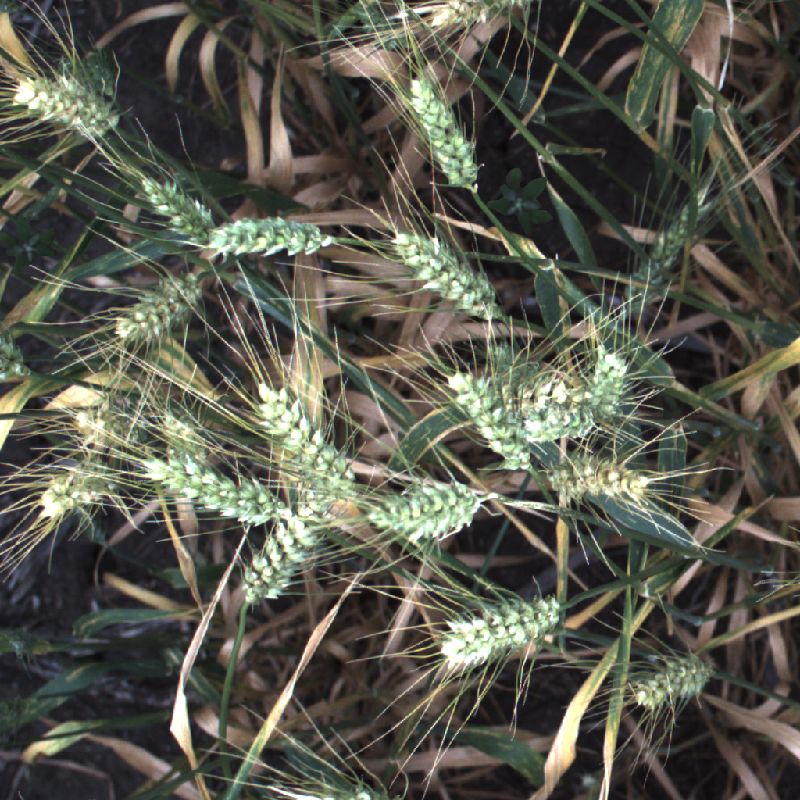spikelet: (239, 367, 369, 501), (129, 442, 292, 535), (614, 171, 717, 316), (103, 259, 223, 364), (385, 225, 507, 324), (435, 364, 538, 476), (234, 487, 329, 606), (432, 589, 560, 673), (402, 75, 482, 194), (129, 160, 225, 251), (28, 456, 135, 527), (365, 475, 485, 536), (509, 374, 621, 439), (10, 71, 117, 137), (531, 453, 652, 505), (210, 211, 335, 260), (396, 1, 535, 43), (625, 648, 714, 713), (584, 328, 636, 433), (148, 405, 219, 472), (264, 771, 389, 800), (68, 408, 128, 450), (73, 47, 120, 95)
weed: (478, 156, 568, 247), (1, 214, 59, 273)
